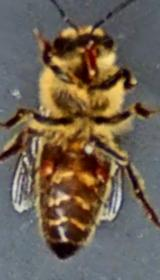varroa_mite: (88, 141, 119, 187), (32, 145, 61, 180)
